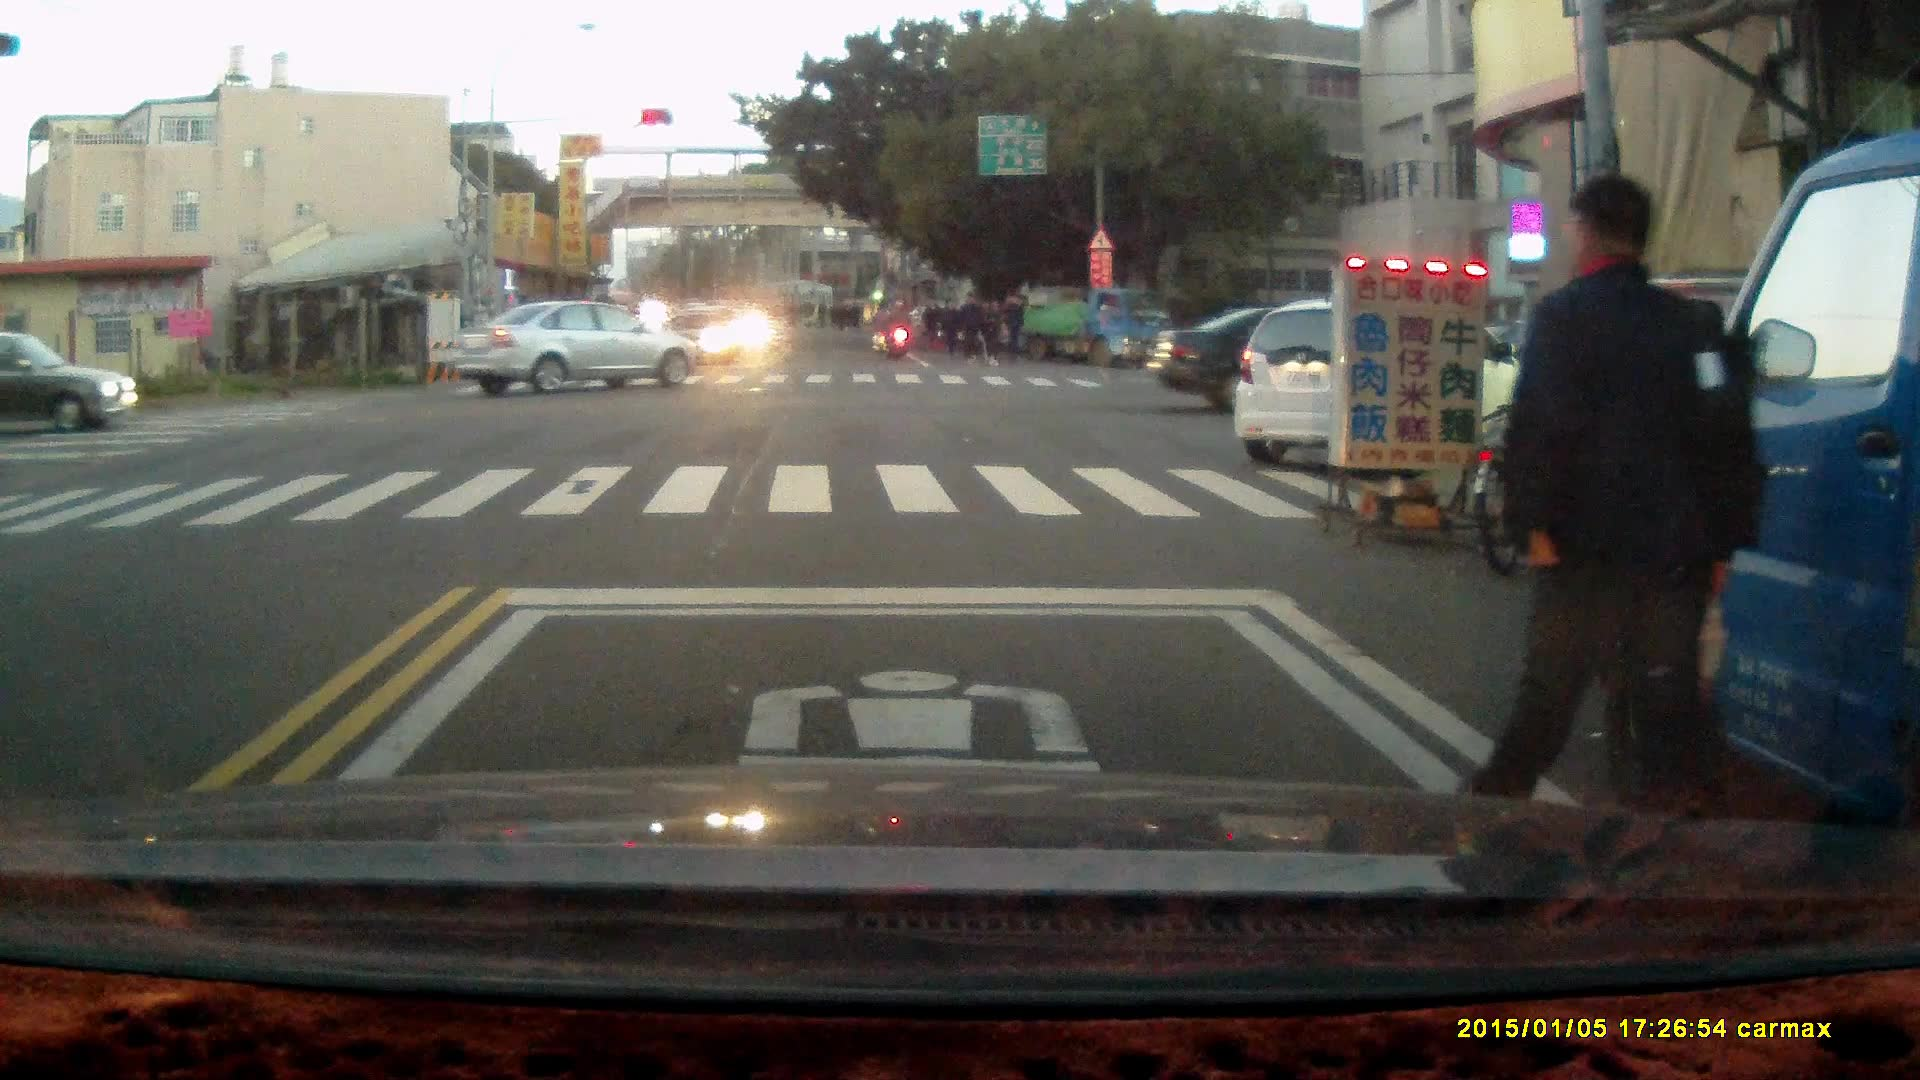pedestrian: (1488, 180, 1765, 862), (996, 292, 1025, 370), (957, 290, 985, 367)
rider: (878, 297, 910, 360), (869, 299, 894, 358)
vehicle: (1598, 132, 1920, 845), (1233, 296, 1533, 459), (1141, 299, 1447, 415), (457, 300, 708, 400), (1, 332, 145, 440), (1002, 284, 1179, 367)
